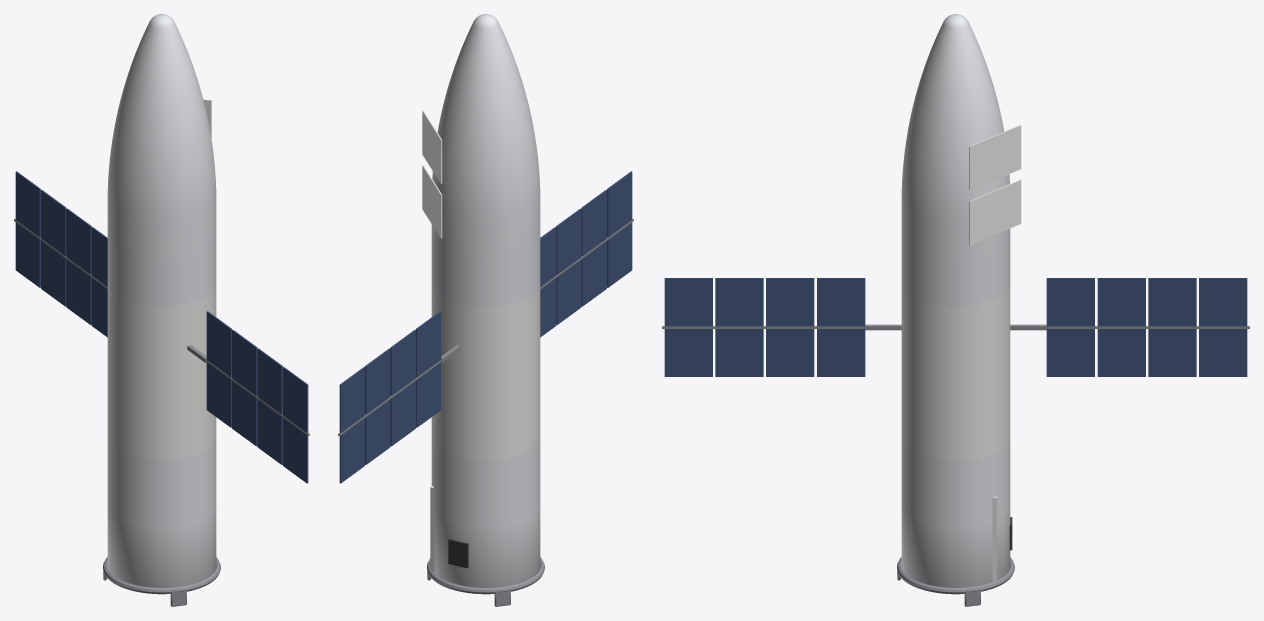
The model's file is depot.glb.
3 renders of one model, left to right at view 1: azimuth 30°, elevation 25°; view 2: azimuth 150°, elevation 25°; view 3: azimuth 270°, elevation 25°, orthographic.
Parts seen in each view (by area): view 1: depot; view 2: depot; view 3: depot.
Part boxes in pixels (left/top/right/bottom): depot: left=14, top=14, right=309, bottom=606; depot: left=338, top=14, right=633, bottom=606; depot: left=662, top=14, right=1249, bottom=606.
Bounding box in the file's own units: 10.29 × 51.78 × 48.6.
